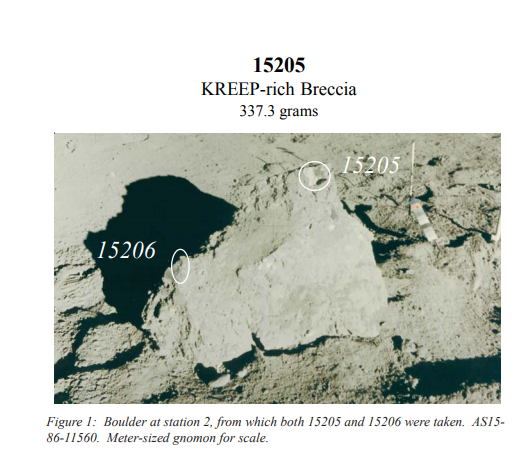Breccia: (124, 185, 485, 376)
